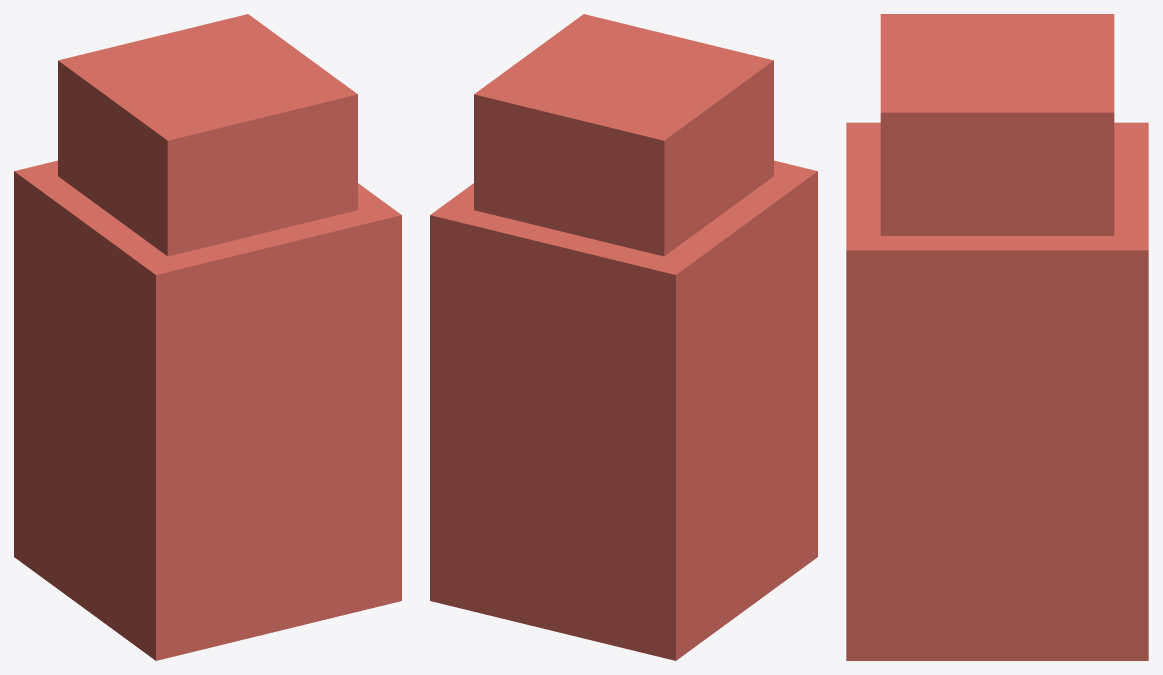
Rendered from edit.glb.
The picture shows the model from 3 angles, left to right: view 1: azimuth 30°, elevation 25°; view 2: azimuth 150°, elevation 25°; view 3: azimuth 270°, elevation 25°; orthographic projection. The views are drawn at different scales.
Visible parts, largest first — view 1: Cube; view 2: Cube; view 3: Cube.
Boxes of the visible parts, x1,y1,x2,y2 form: Cube: (14, 14, 401, 660); Cube: (430, 14, 817, 660); Cube: (846, 14, 1148, 660).
Size of what is drawn, in the model's own units: 1 by 1.95 by 1.
